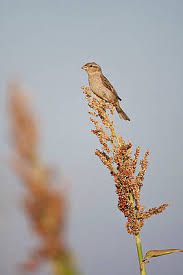hsparrow: (78, 58, 141, 128)
